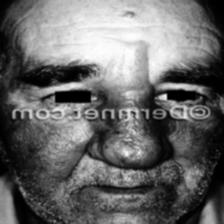Toxin: (13, 122, 216, 170), (100, 35, 156, 107)
